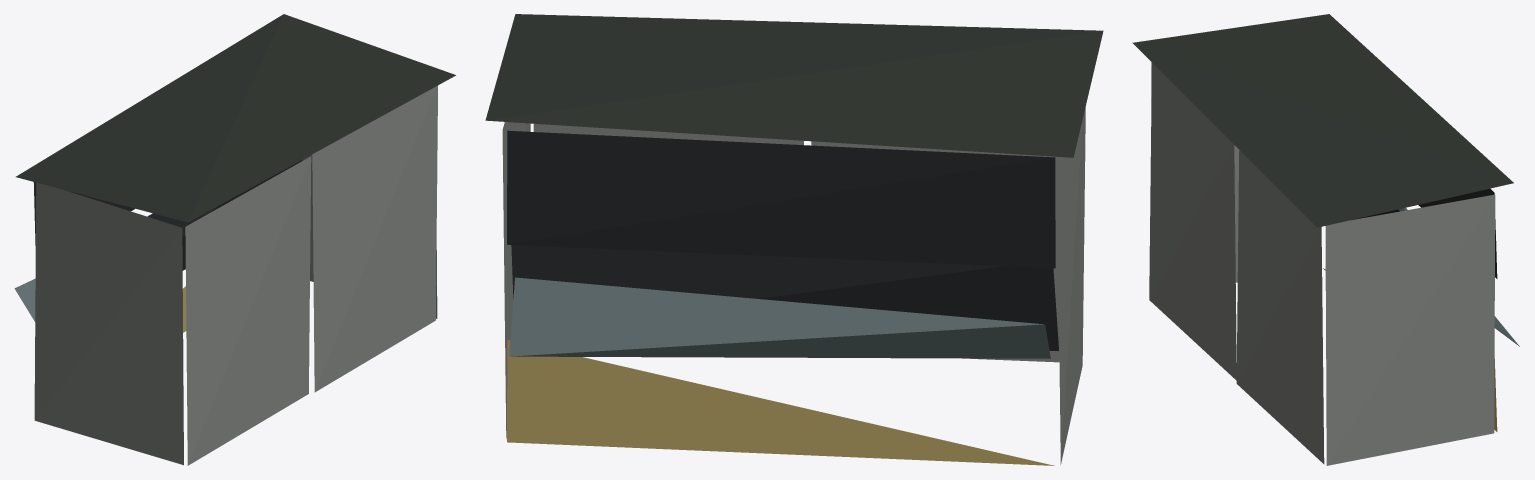
The model's file is kiosk-mr-blou.lod2.glb.
3 renders of one model, left to right at view 1: azimuth 30°, elevation 25°; view 2: azimuth 150°, elevation 25°; view 3: azimuth 270°, elevation 25°, orthographic. The views are drawn at different scales.
Parts seen in each view (by area): view 1: lod2; view 2: lod2; view 3: lod2.
Boxes of the visible parts, x1,y1,x2,y2 form: lod2: [14, 14, 455, 465]; lod2: [485, 14, 1103, 465]; lod2: [1132, 14, 1519, 465].
Bounding box in the file's own units: 5.21 × 2.88 × 4.
